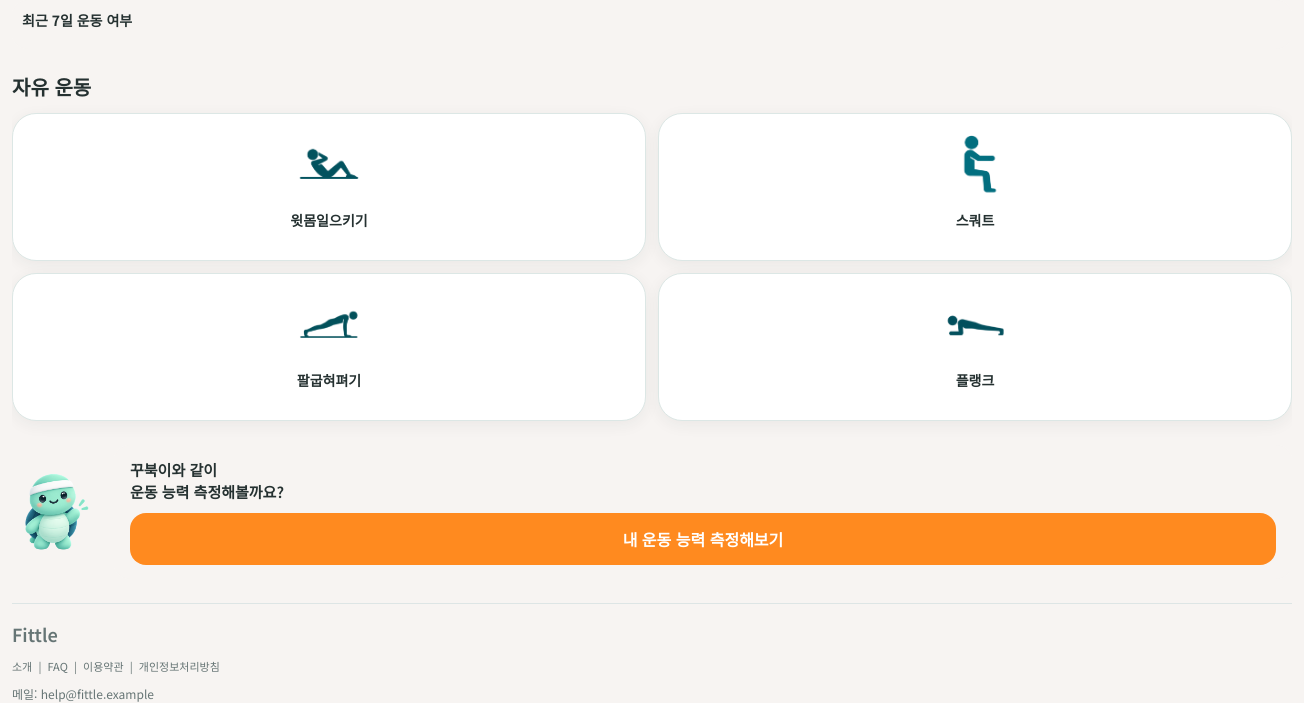
Test: an unavailable progress endpoint cannot create a new measurement
This screenshot has width=1304, height=703.
Click the button "내 운동 능력 측정해보기" at {"x": 703, "y": 539}, box [130,513,1276,565]
Wait 500 ms
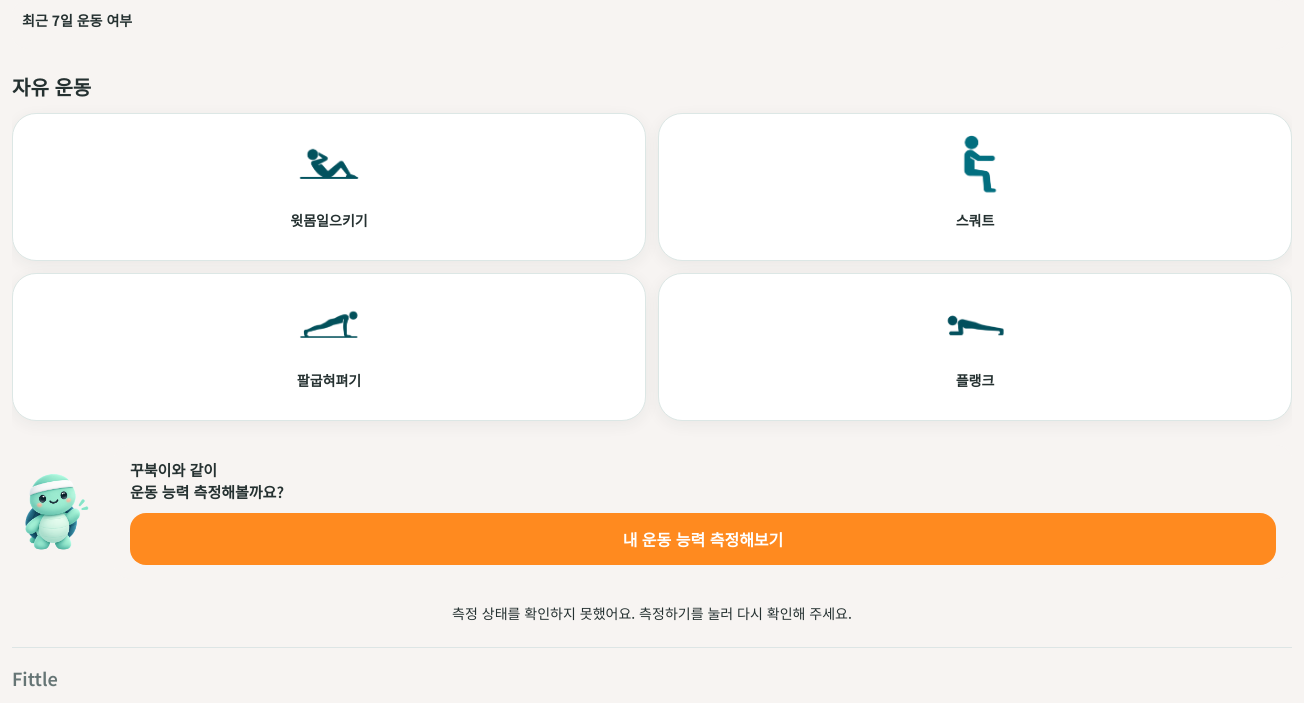
Expected: the message "측정 상태를 확인하지 못했어요. 측정하기를 눌러 다시 확인해 주세요." is shown, [452,603,852,623]
